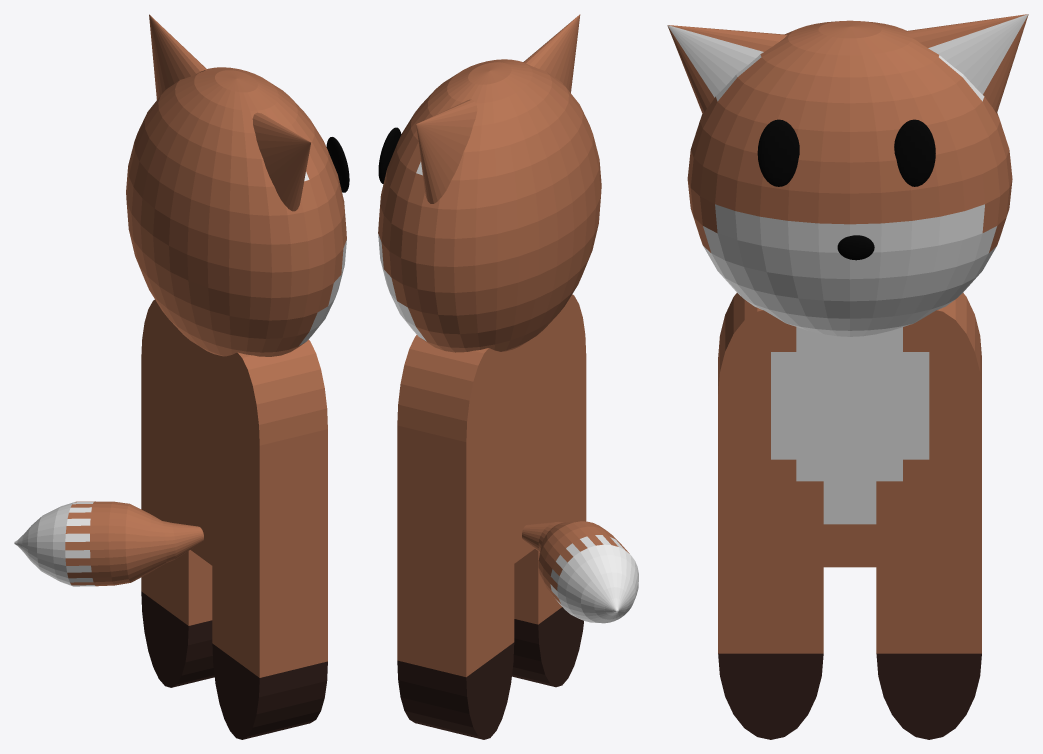
The model's file is zorro.gltf.
The picture shows the model from 3 angles, left to right: view 1: azimuth 30°, elevation 25°; view 2: azimuth 150°, elevation 25°; view 3: azimuth 270°, elevation 25°; orthographic projection. The views are drawn at different scales.
Parts seen in each view (by area): view 1: Cube, Sphere, Cylinder, Cone.001, Cone, Sphere.001; view 2: Cube, Sphere, Cylinder, Cone, Cone.001, Sphere.002; view 3: Cube, Sphere, Cone, Cone.001, Sphere.001, Sphere.002, Sphere.003.
Boxes of the visible parts, box(x1,y1,x2,y2) form: Cube: box(141, 299, 327, 739); Sphere: box(126, 67, 346, 356); Cylinder: box(14, 501, 203, 586); Cone.001: box(252, 112, 310, 211); Cone: box(149, 14, 206, 99); Sphere.001: box(326, 137, 349, 192); Cube: box(397, 294, 586, 739); Sphere: box(378, 59, 601, 352); Cylinder: box(522, 521, 638, 623); Cone: box(416, 99, 477, 203); Cone.001: box(523, 14, 580, 92); Sphere.002: box(378, 127, 401, 183); Cube: box(718, 293, 981, 739); Sphere: box(687, 20, 1012, 336); Cone: box(906, 14, 1028, 113); Cone.001: box(667, 25, 787, 113); Sphere.001: box(757, 119, 799, 186); Sphere.002: box(894, 119, 935, 186); Sphere.003: box(837, 235, 874, 260).
Size of the model in its own units: 1.78 by 4.12 by 1.92.
